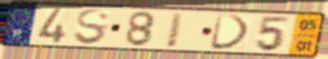4: (37, 6, 69, 45)
5: (255, 15, 292, 53)
8: (125, 10, 158, 48)
D: (208, 13, 252, 51)
I: (164, 11, 187, 49)
S: (72, 8, 112, 47)
